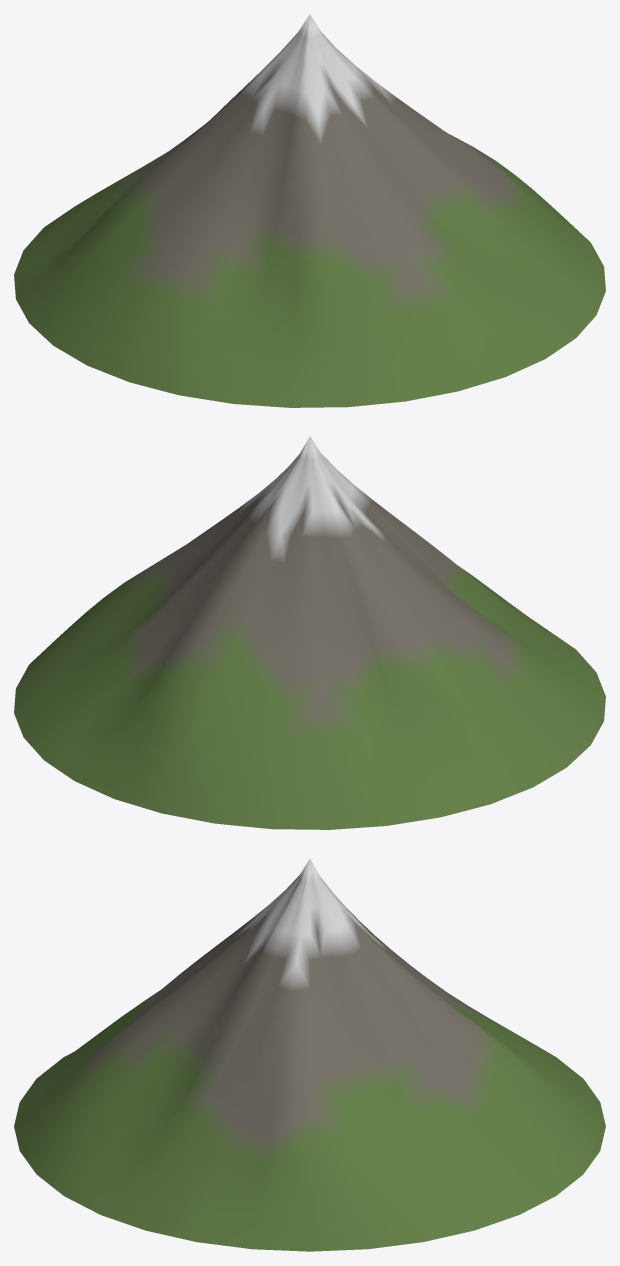
The model's file is mountain-c.glb.
3 views of the same model, one above another, from view 1: azimuth 30°, elevation 25°; view 2: azimuth 150°, elevation 25°; view 3: azimuth 270°, elevation 25° (orthographic).
Parts seen in each view (by area): view 1: body; view 2: body; view 3: body.
Part boxes in pixels (<box>): body: <box>14,14,605,407</box>; body: <box>14,436,605,829</box>; body: <box>14,859,605,1251</box>.
Size of the model in its own units: 2 by 1 by 2.
